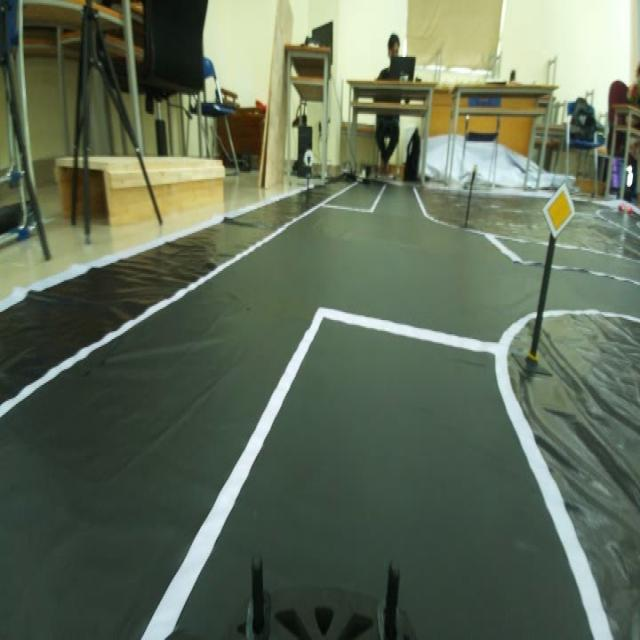priority: (540, 176, 578, 244)
